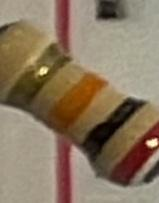Black: (79, 92, 149, 165)
Orange: (41, 67, 112, 136)
Red: (106, 118, 159, 189)
Side-Gold: (3, 39, 74, 112)
